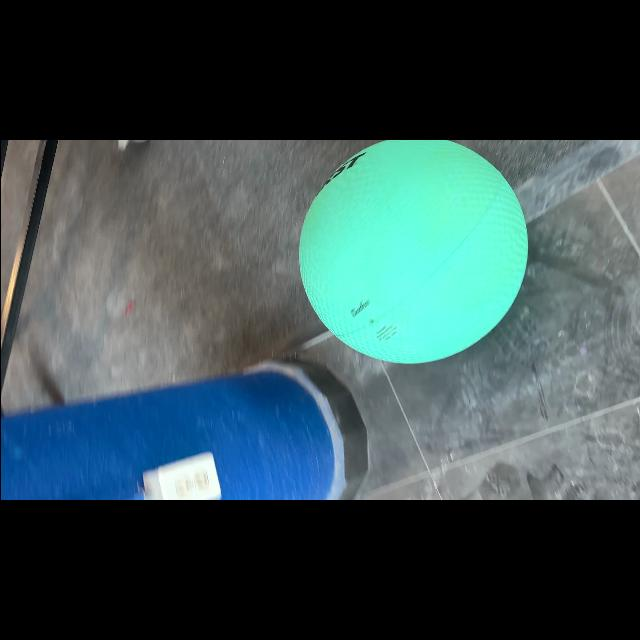ALGAE: (296, 141, 528, 365)
